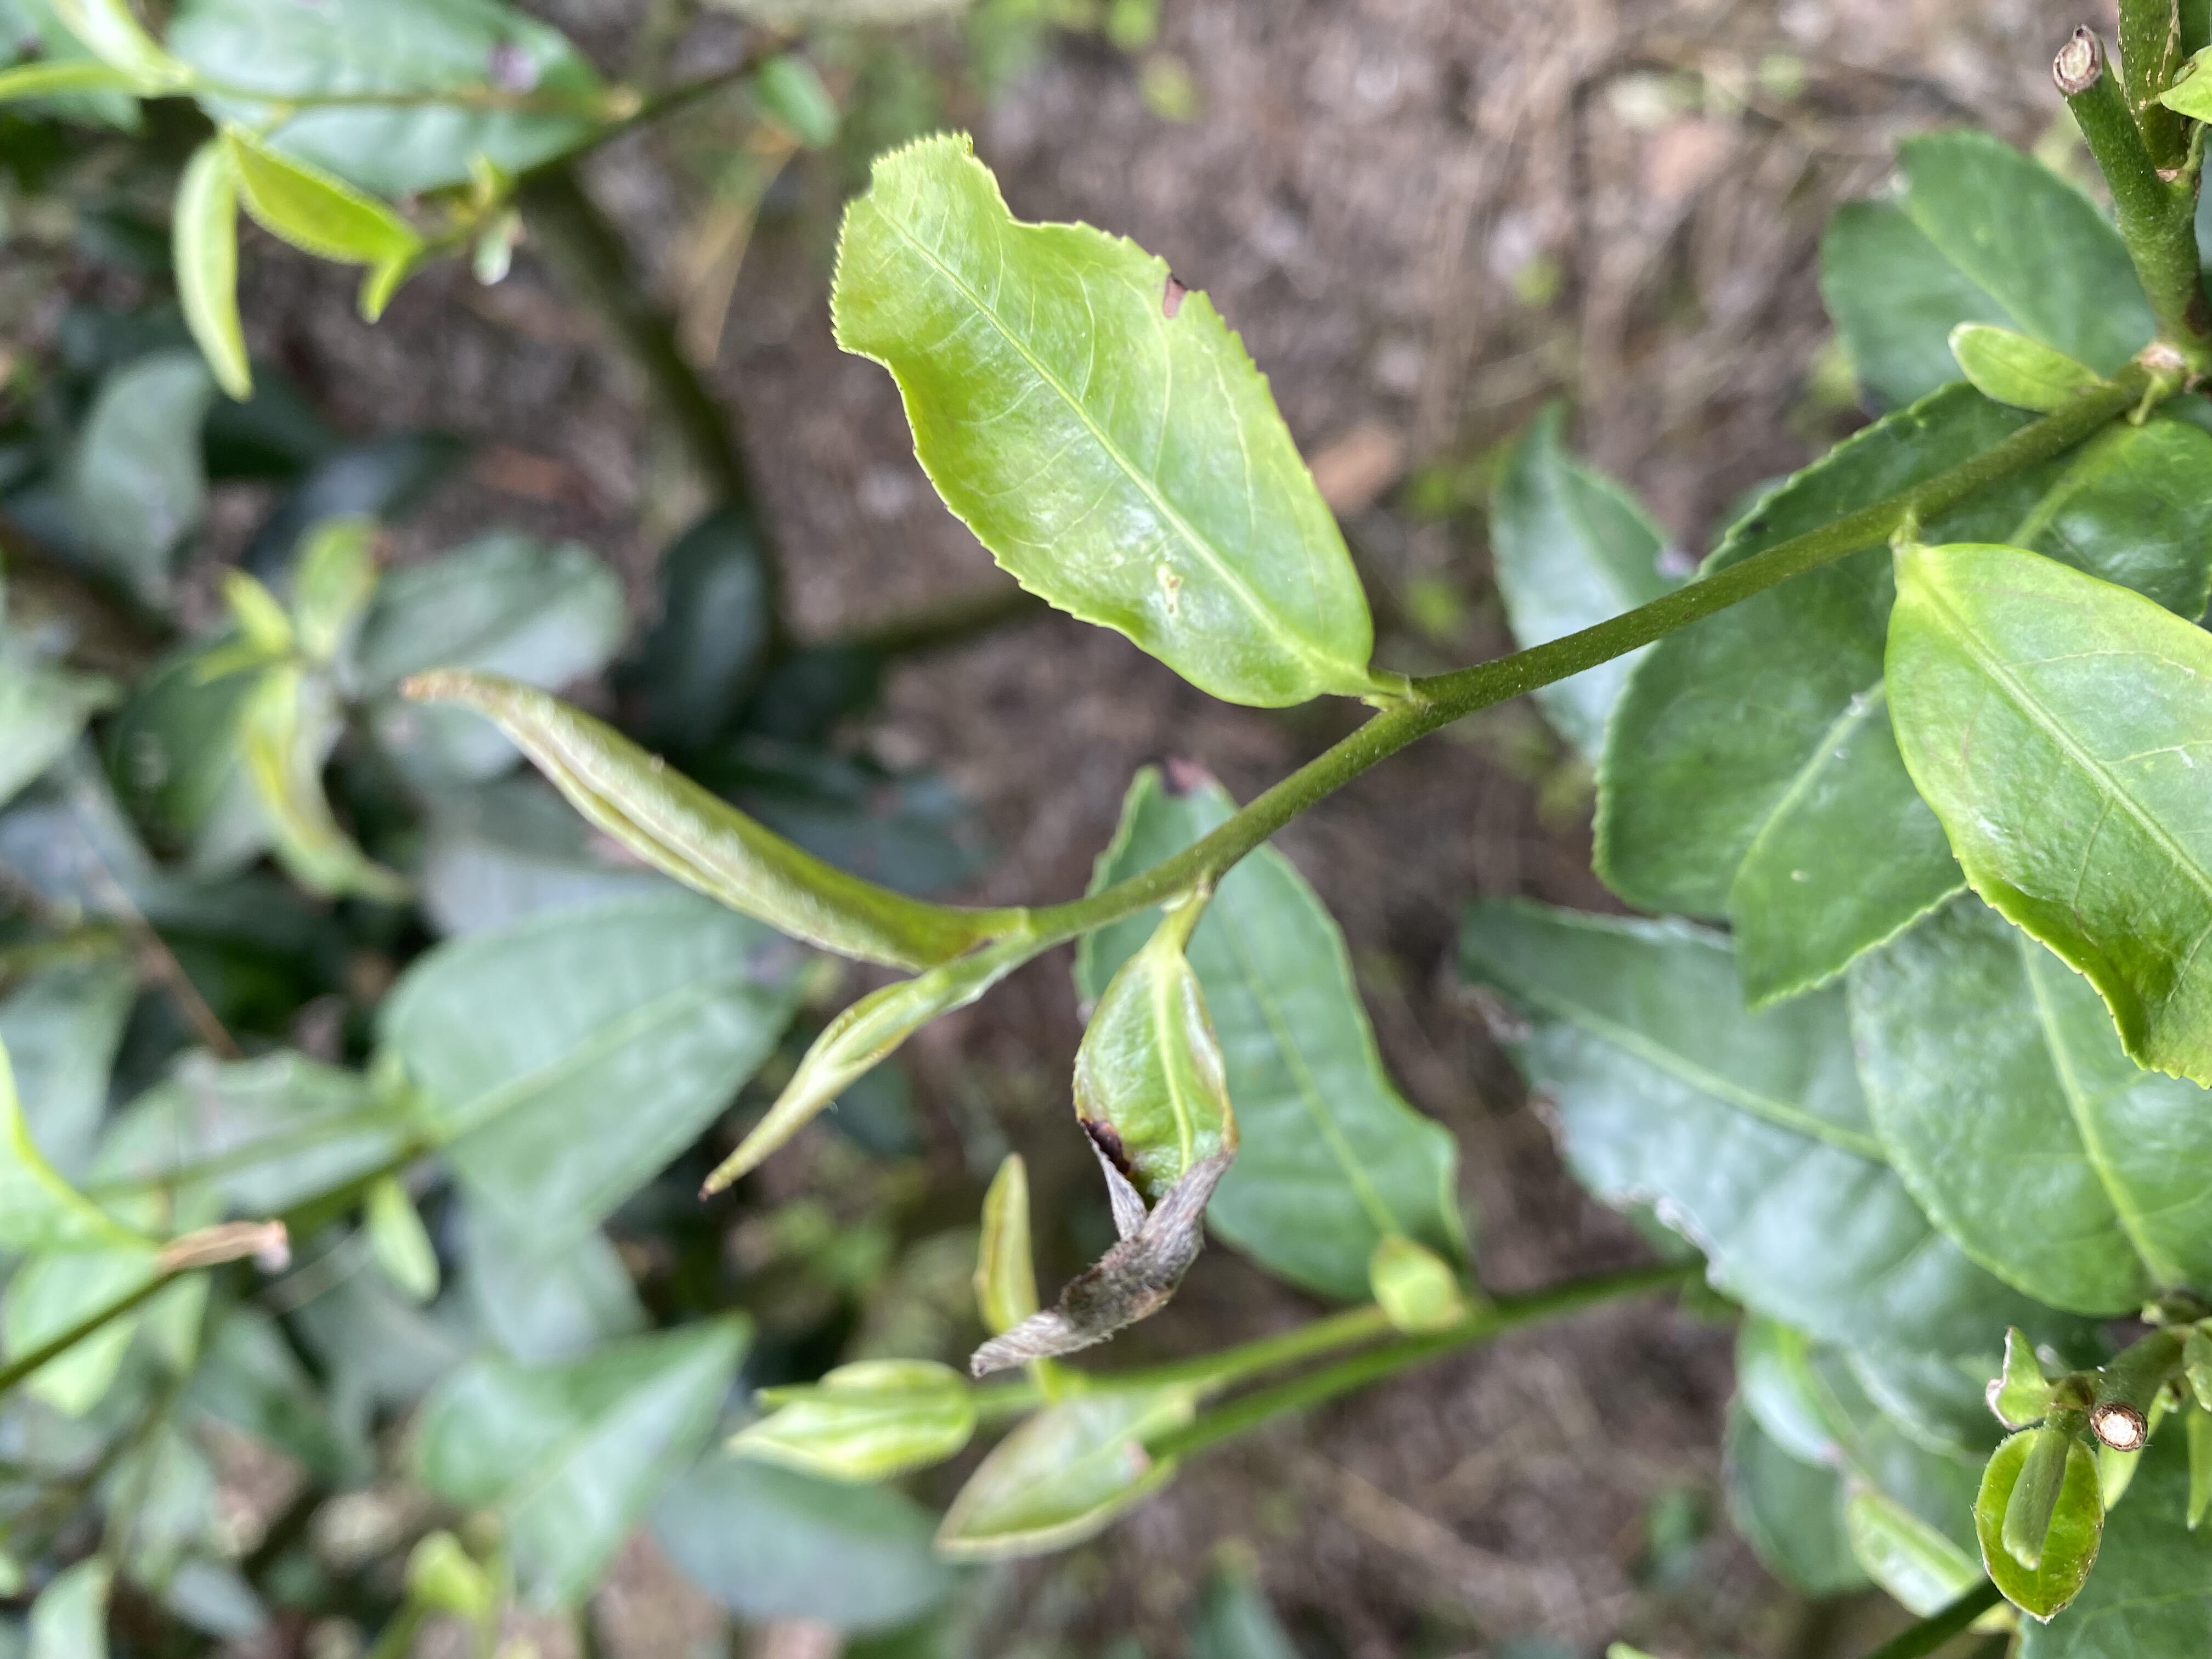healthy: (1883, 542, 2212, 1091)
tanju_high: (824, 129, 1376, 711), (1071, 756, 1479, 1309), (970, 917, 1245, 1380)
